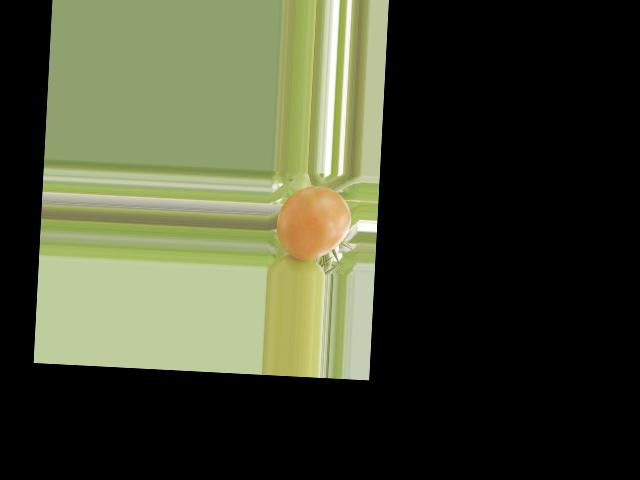tomato: (274, 184, 352, 262)
